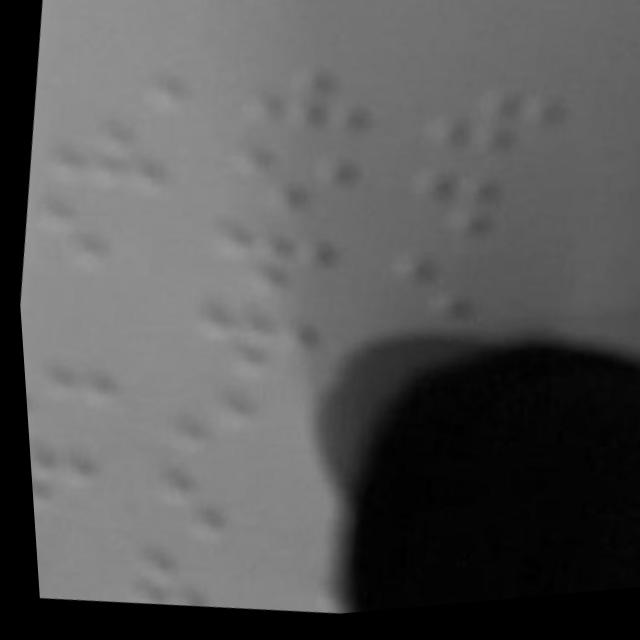braiile: (371, 244, 550, 361), (392, 163, 572, 273), (399, 80, 579, 188), (162, 301, 329, 415), (123, 464, 297, 571), (177, 218, 345, 328), (228, 52, 398, 160), (203, 131, 364, 245), (142, 389, 305, 493)
